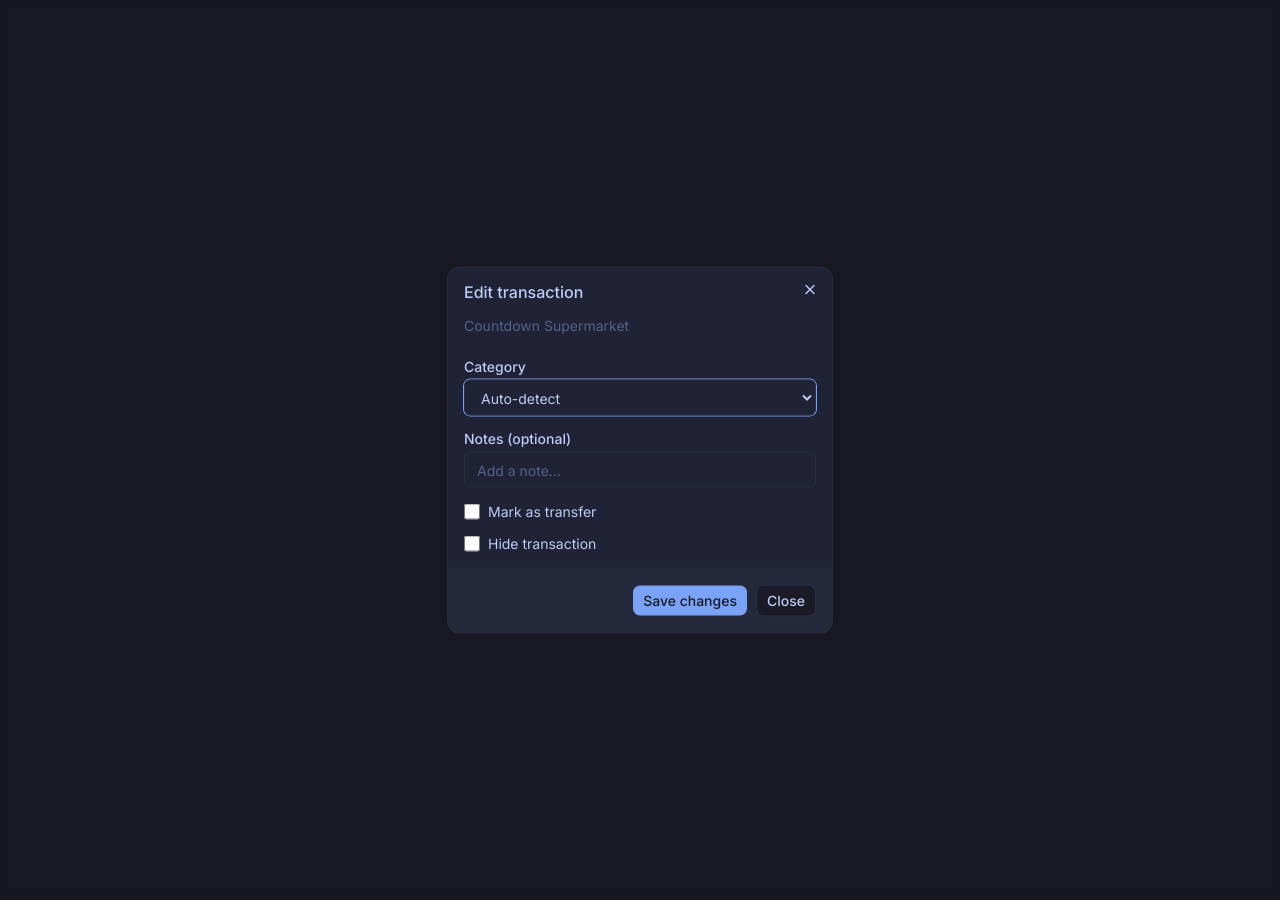
TransactionEditDialog › shows an error message from the API response when fetch returns non-ok
Click the button "Save changes": (690, 600) [632,584,748,616]
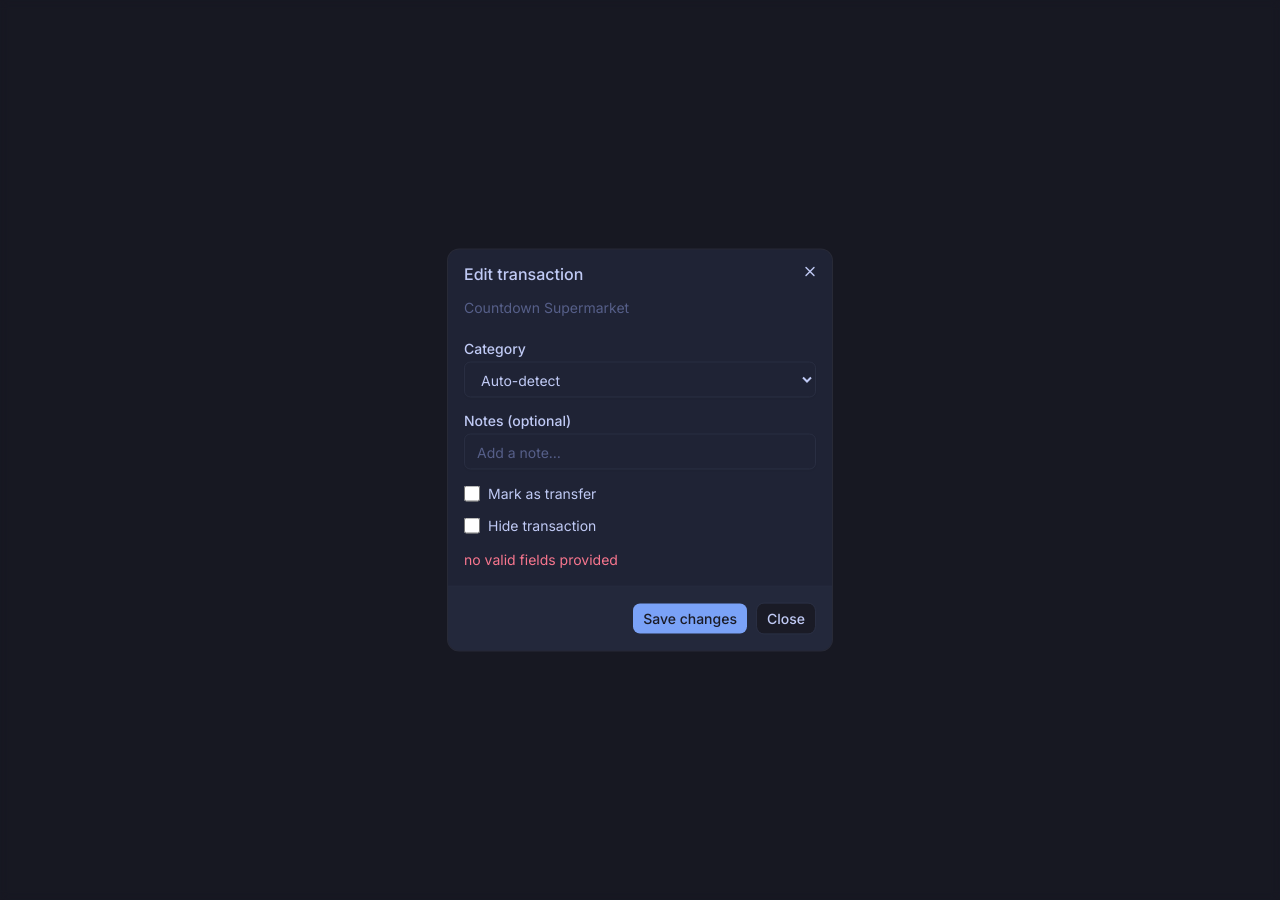
Expected: the text "no valid fields provided" is shown, [464,550,618,568]
